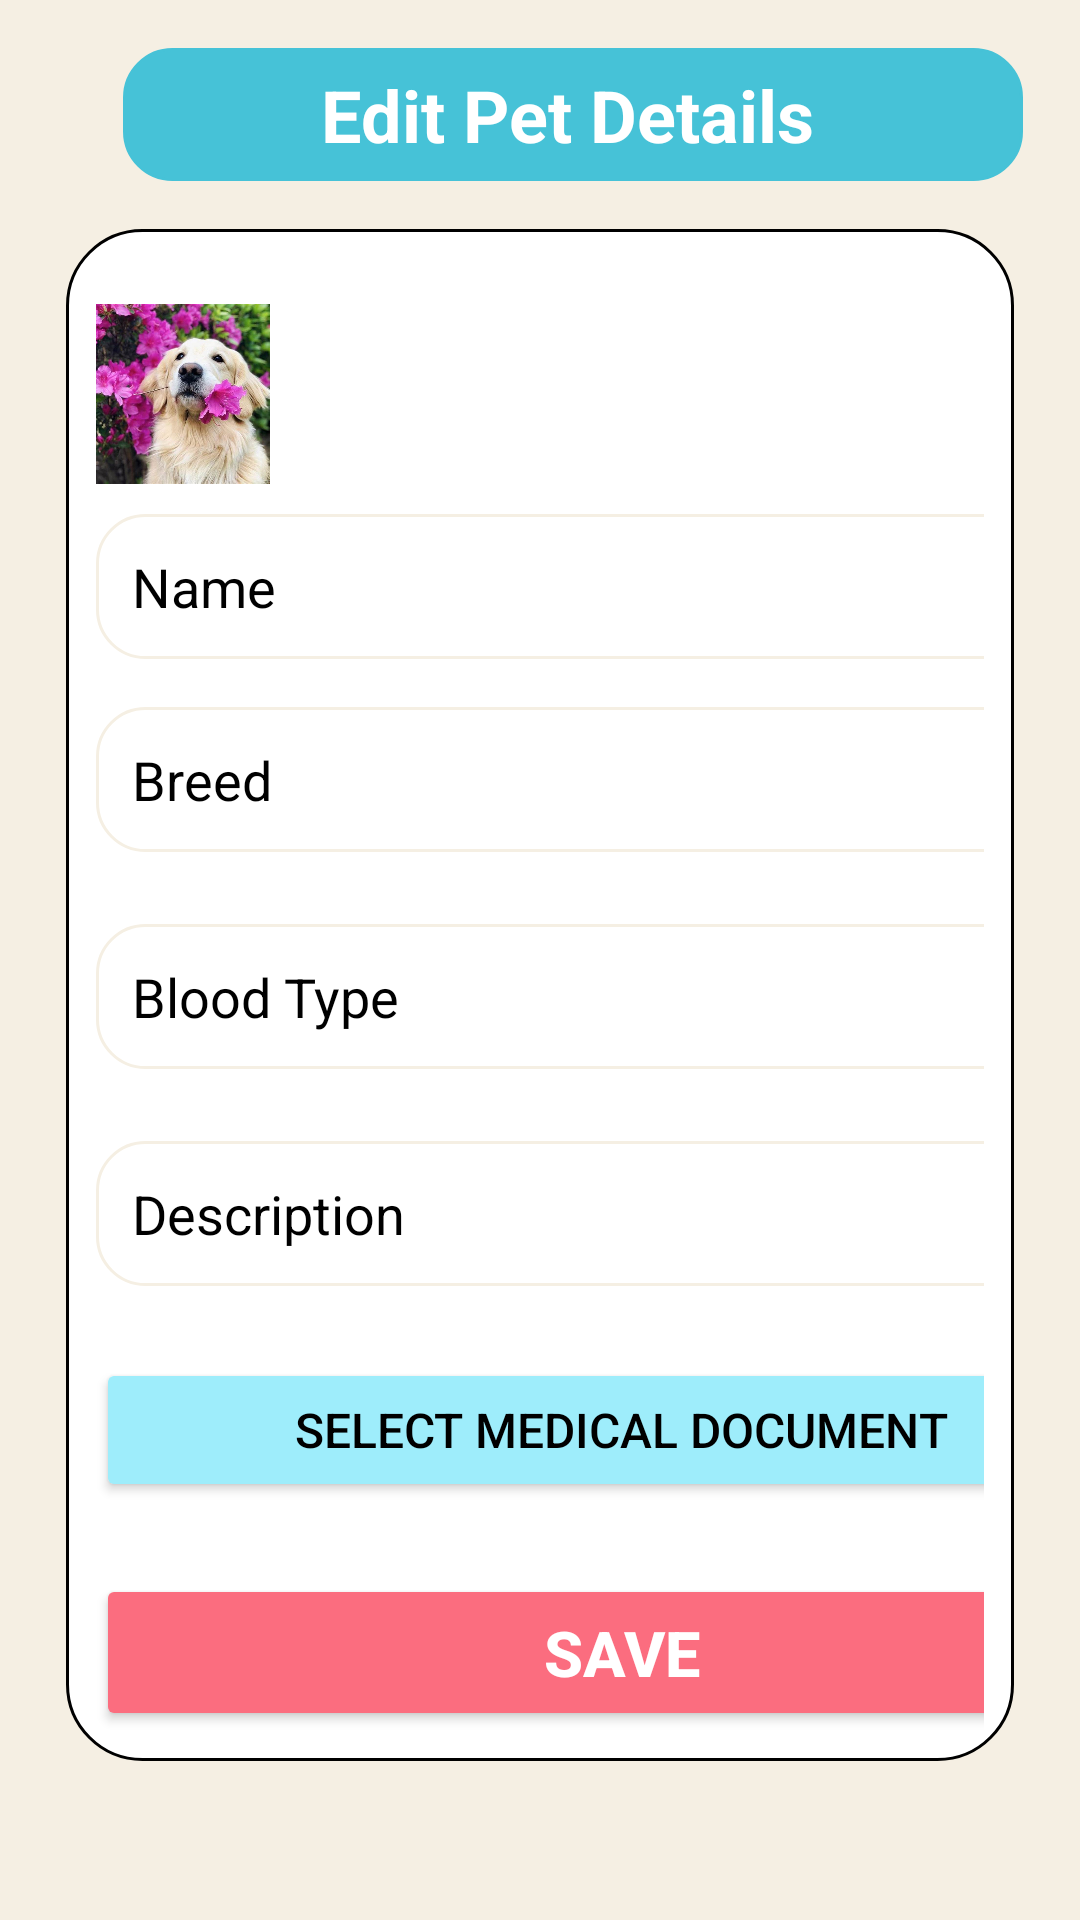

Named icons in this screenshot (1080px x 1920px) and their bounding boxes, (x1, y1, x2, y2):
profile picture: (96, 304, 270, 484)
